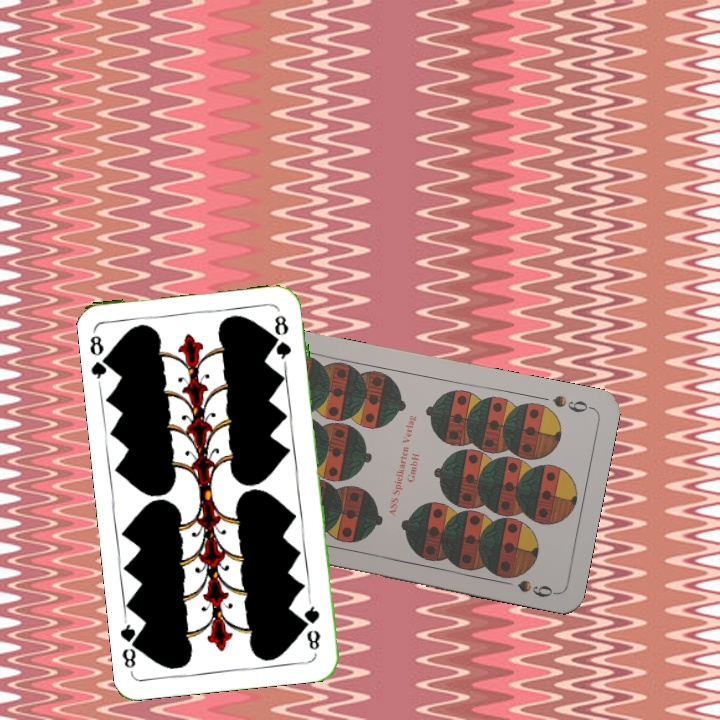G8: (86, 331, 116, 386), (300, 596, 323, 653)
S9: (548, 391, 595, 415)
